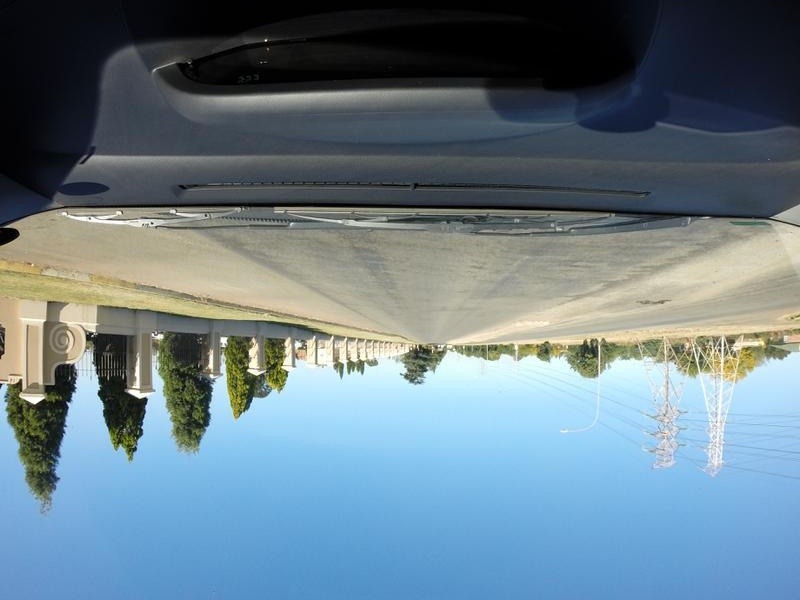pothole: (639, 297, 675, 304)
